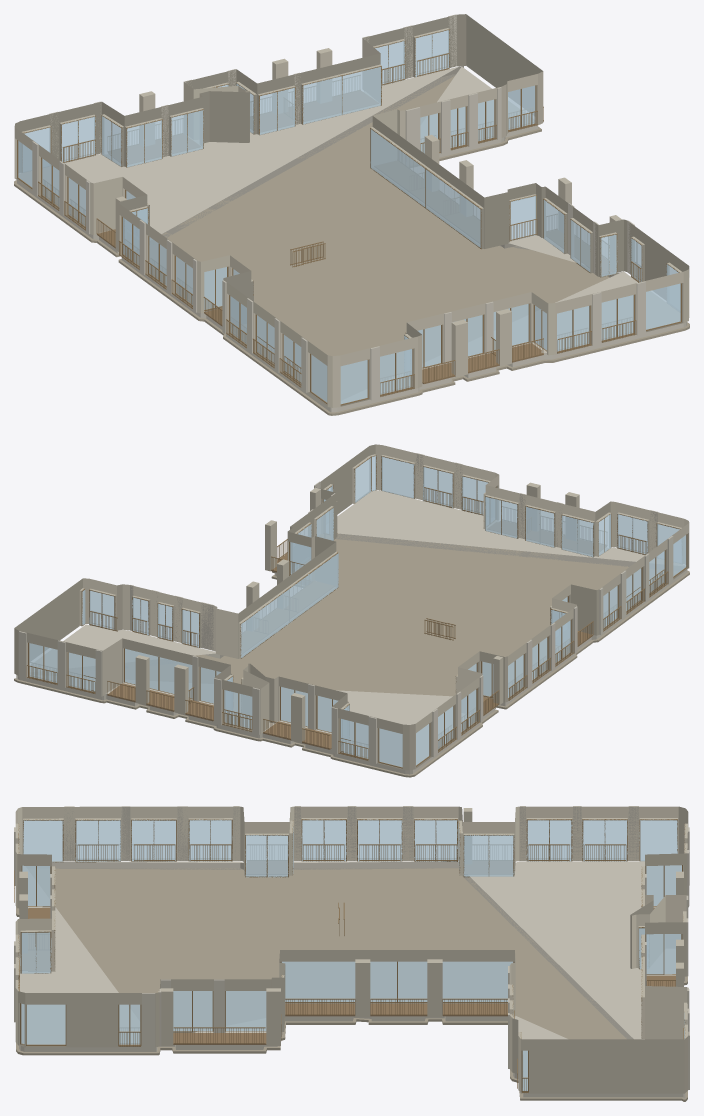
3 renders of one model, top to bottom at view 1: azimuth 30°, elevation 25°; view 2: azimuth 150°, elevation 25°; view 3: azimuth 270°, elevation 25°, orthographic. The views are drawn at different scales.
Size of the model in its own units: 31.94 by 3.98 by 39.
